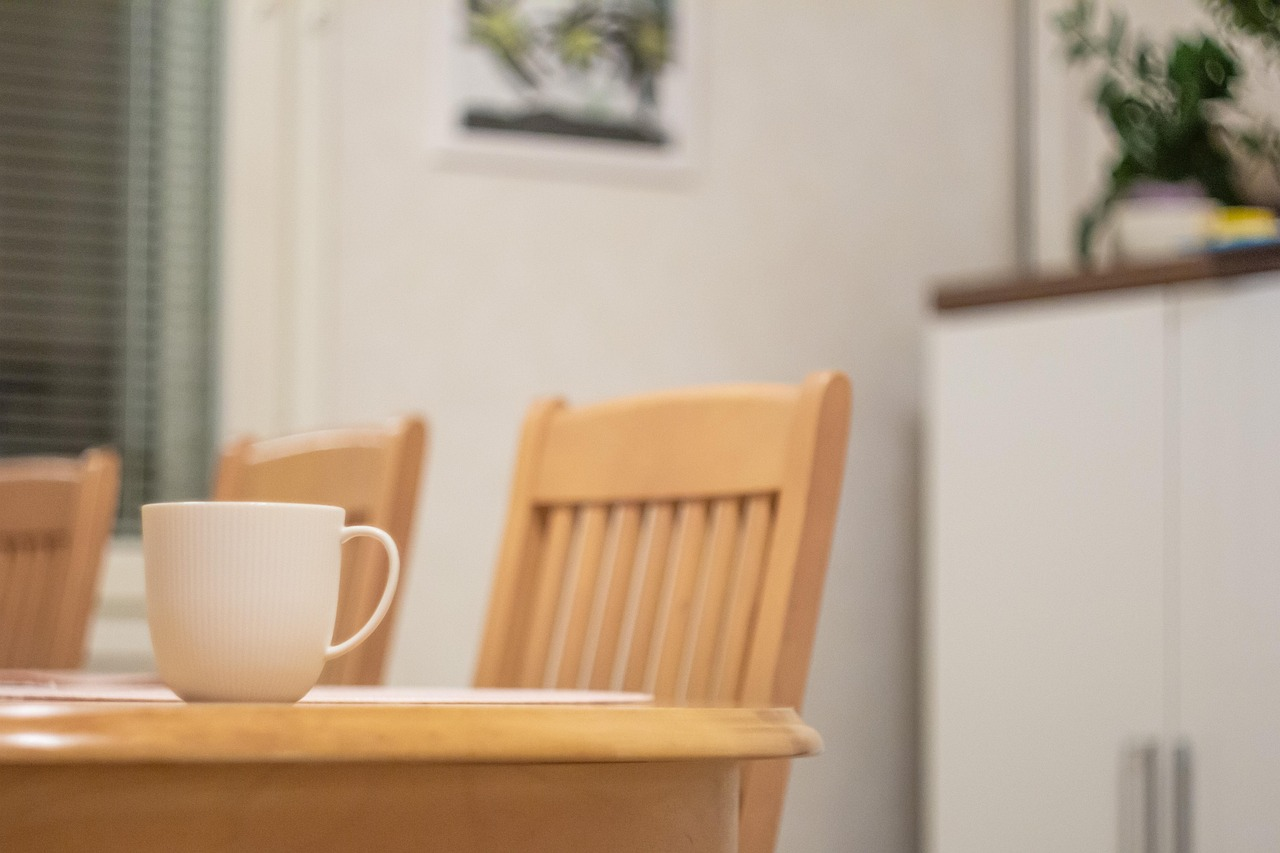mug: (109, 488, 417, 730)
